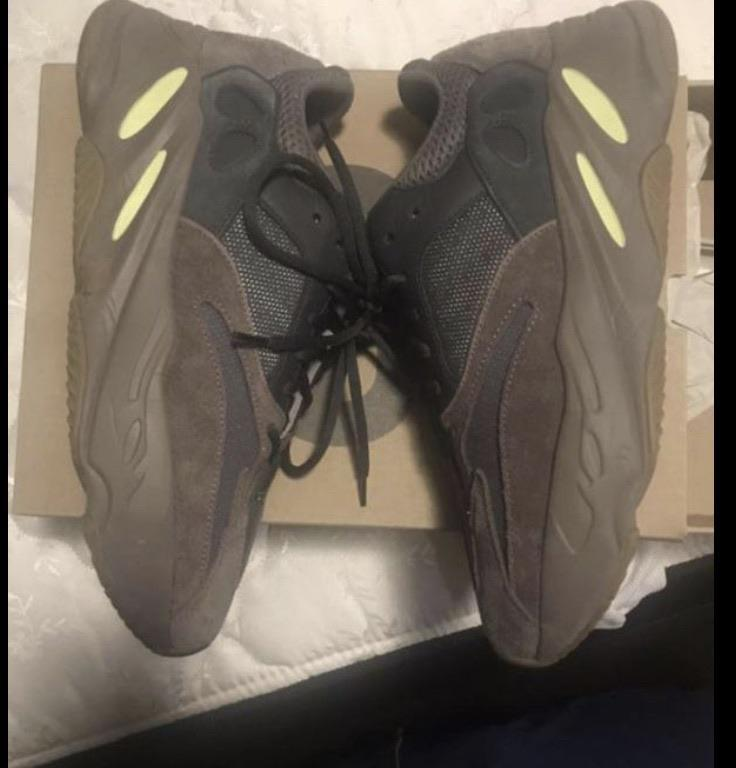sneaker: (372, 0, 680, 669), (65, 0, 357, 661)
